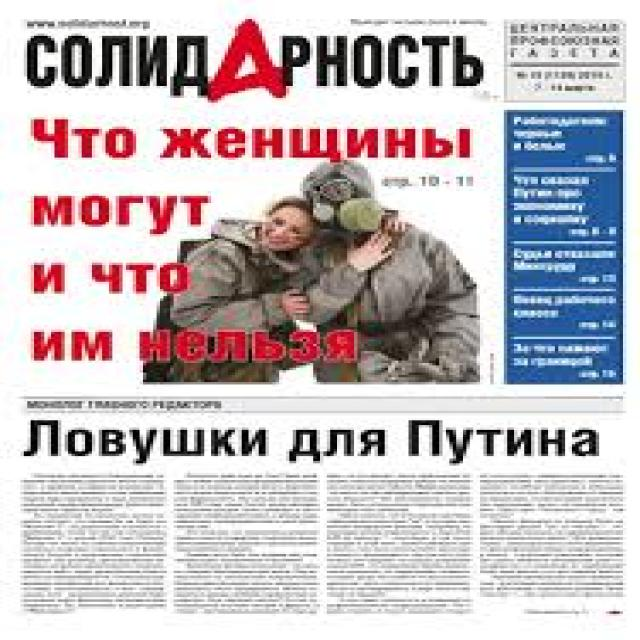paper: (7, 0, 636, 620)
